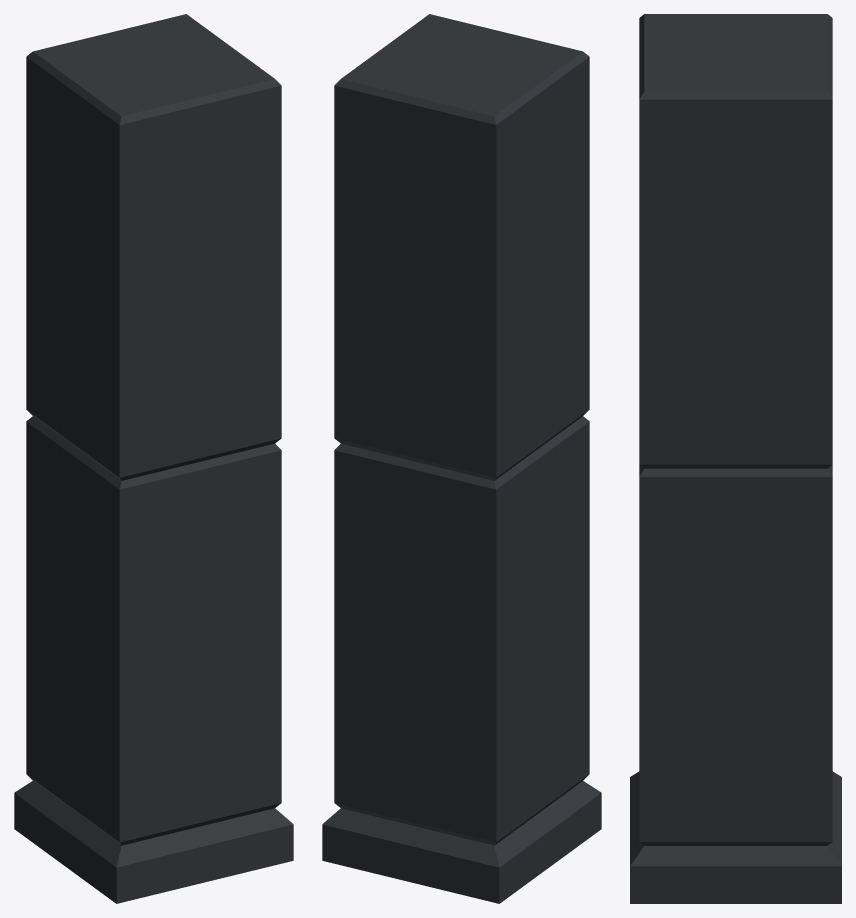
File: Pillar_Interior_01.glb
3 views of the same model, side by side, from view 1: azimuth 30°, elevation 25°; view 2: azimuth 150°, elevation 25°; view 3: azimuth 270°, elevation 25° (orthographic). The views are drawn at different scales.
Parts seen in each view (by area): view 1: SM_Env_Pillar_Interior_01; view 2: SM_Env_Pillar_Interior_01; view 3: SM_Env_Pillar_Interior_01.
Boxes of the visible parts, x1=… form: SM_Env_Pillar_Interior_01: x1=14, y1=14, x2=293, y2=903; SM_Env_Pillar_Interior_01: x1=322, y1=14, x2=601, y2=903; SM_Env_Pillar_Interior_01: x1=630, y1=14, x2=841, y2=903.
Size of the model in its own units: 0.7137 by 3 by 0.7137.
1 material, 1 textured.
